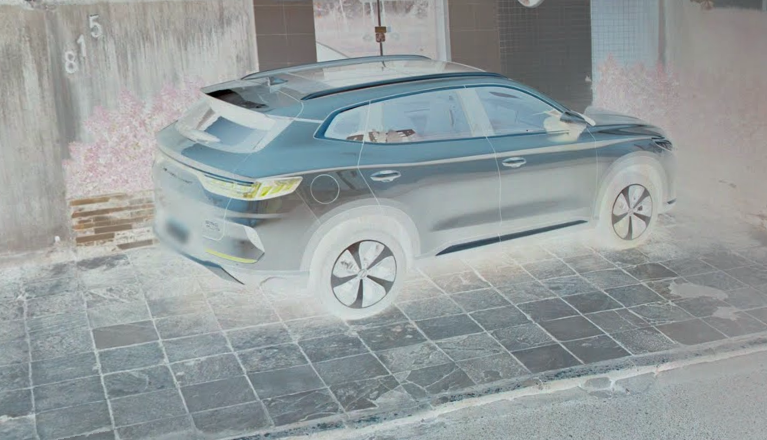car: (147, 48, 681, 321)
